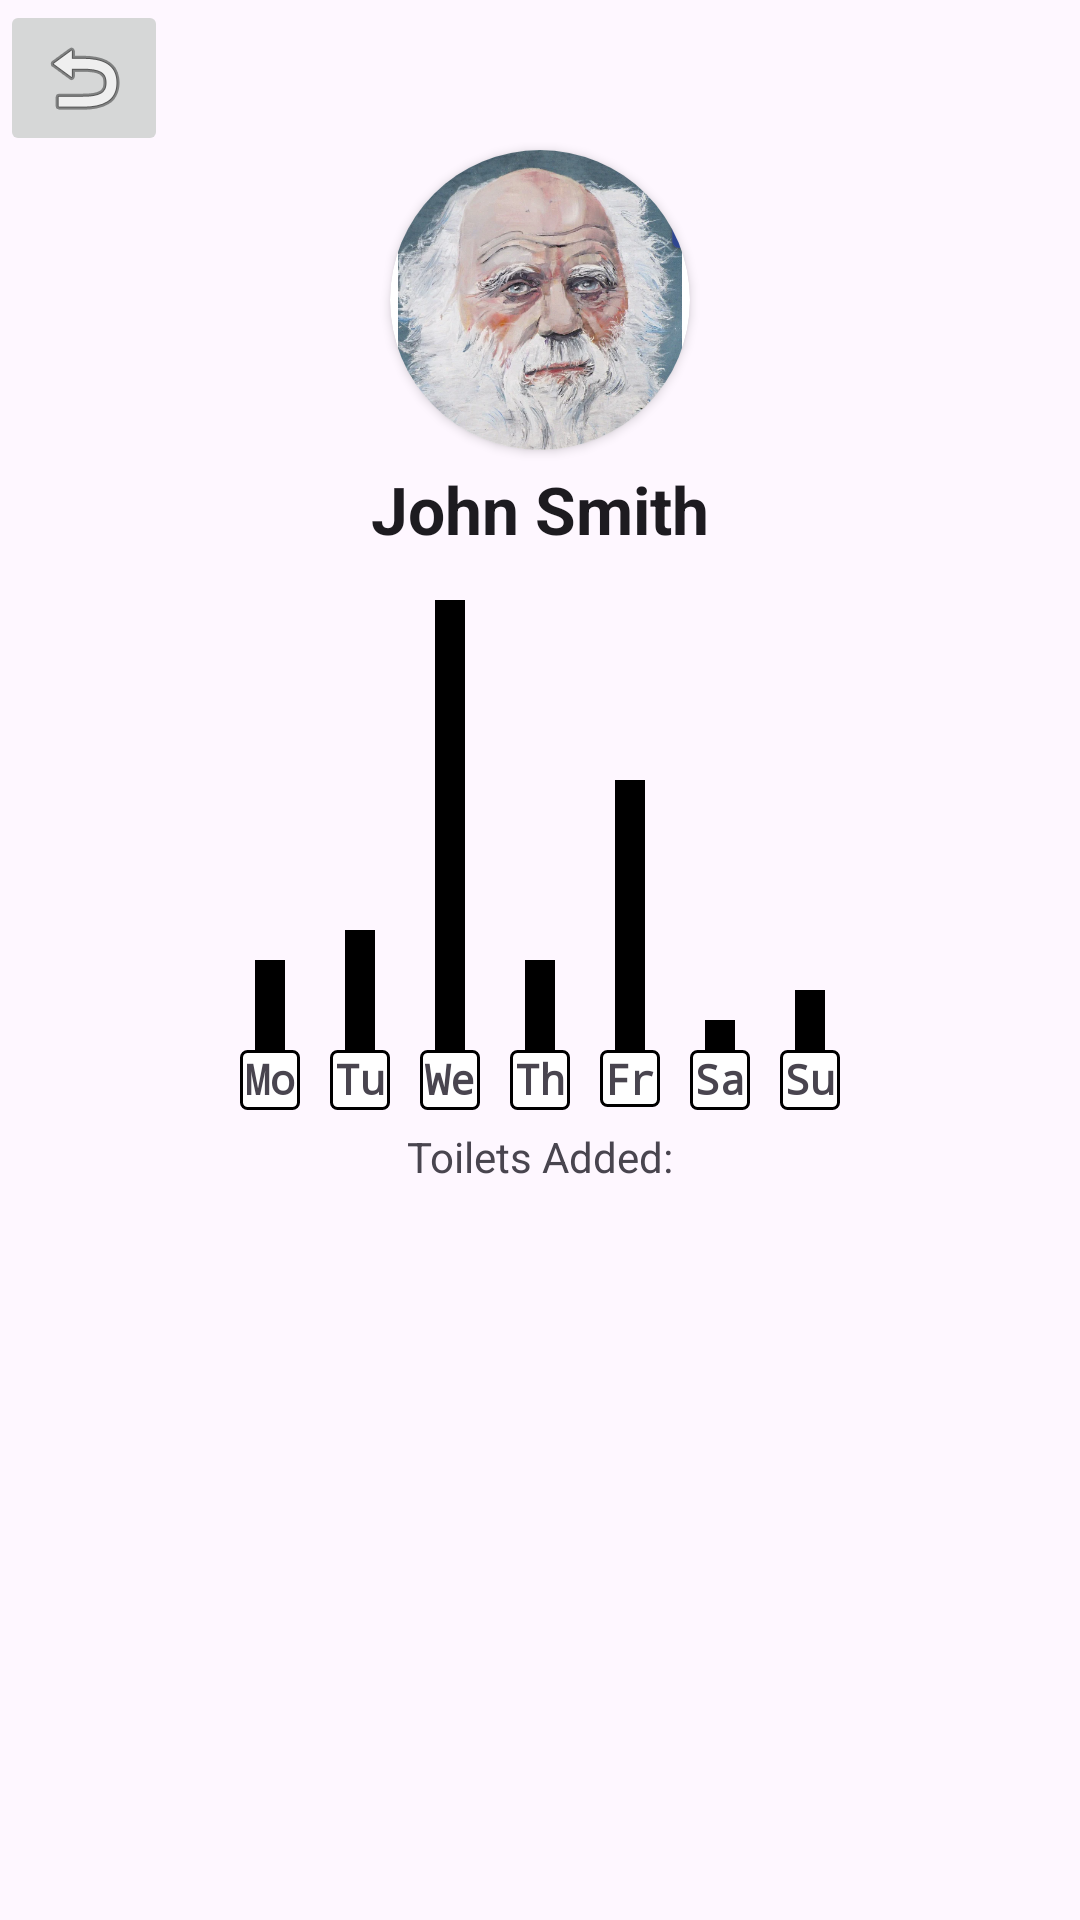

Point at icon controls on the screen. Image size 1080 × 1920, points as (x,y).
revert: (84,78)
